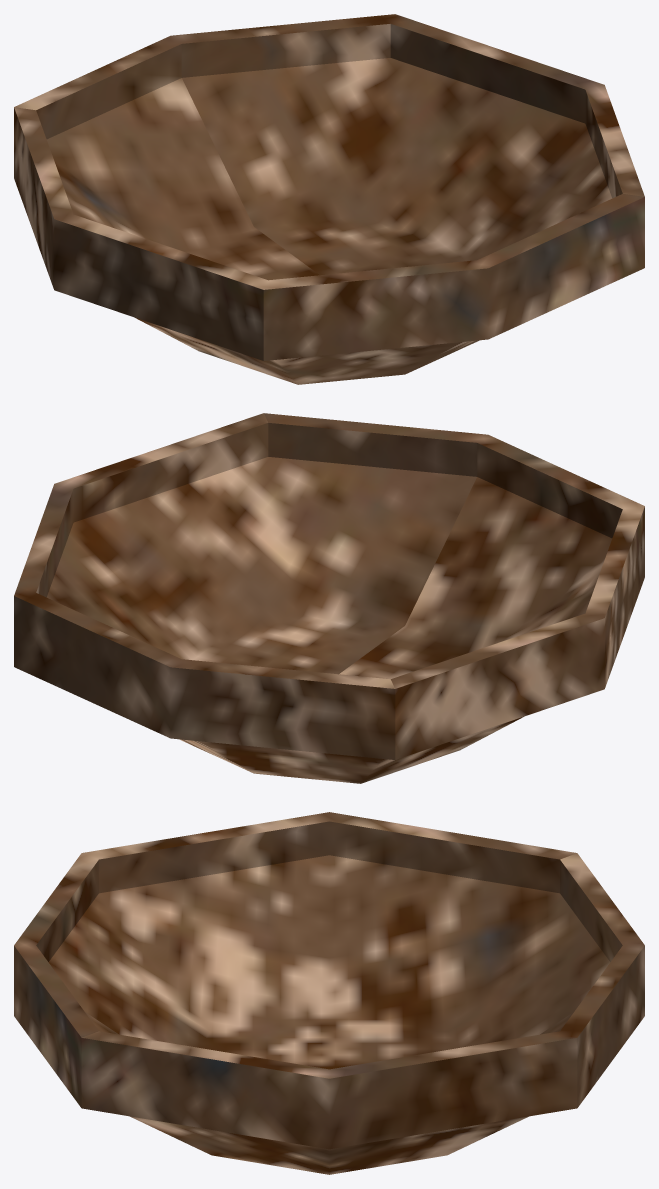
File: Bowl.fbx
3 renders of one model, top to bottom at view 1: azimuth 30°, elevation 25°; view 2: azimuth 150°, elevation 25°; view 3: azimuth 270°, elevation 25°, orthographic.
Visible parts, largest first — view 1: pCube1; view 2: pCube1; view 3: pCube1.
Boxes of the visible parts, x1,y1,x2,y2 form: pCube1: (14, 14, 644, 384); pCube1: (14, 413, 644, 783); pCube1: (14, 812, 644, 1174).
Size of the model in its own units: 52.64 by 15.28 by 52.64.
Materials: 1 (1 with a texture image).
